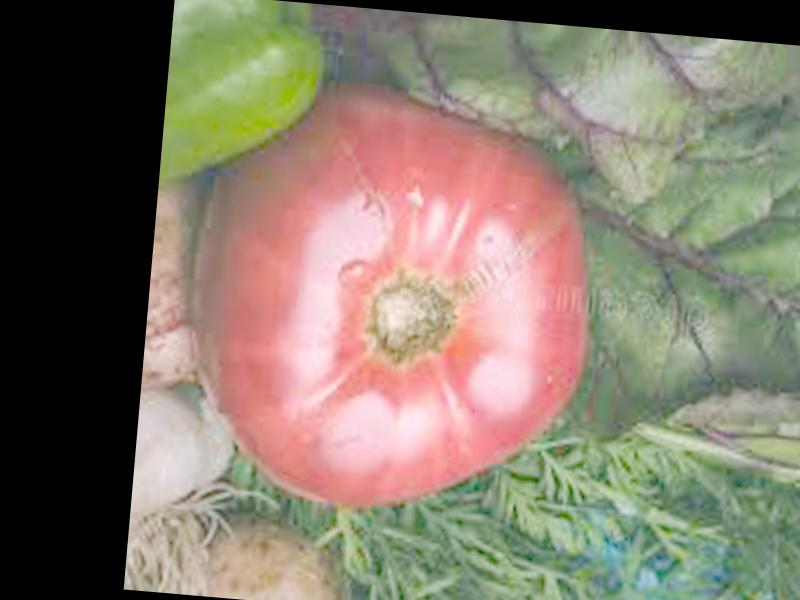Tomato: (169, 69, 606, 525)
